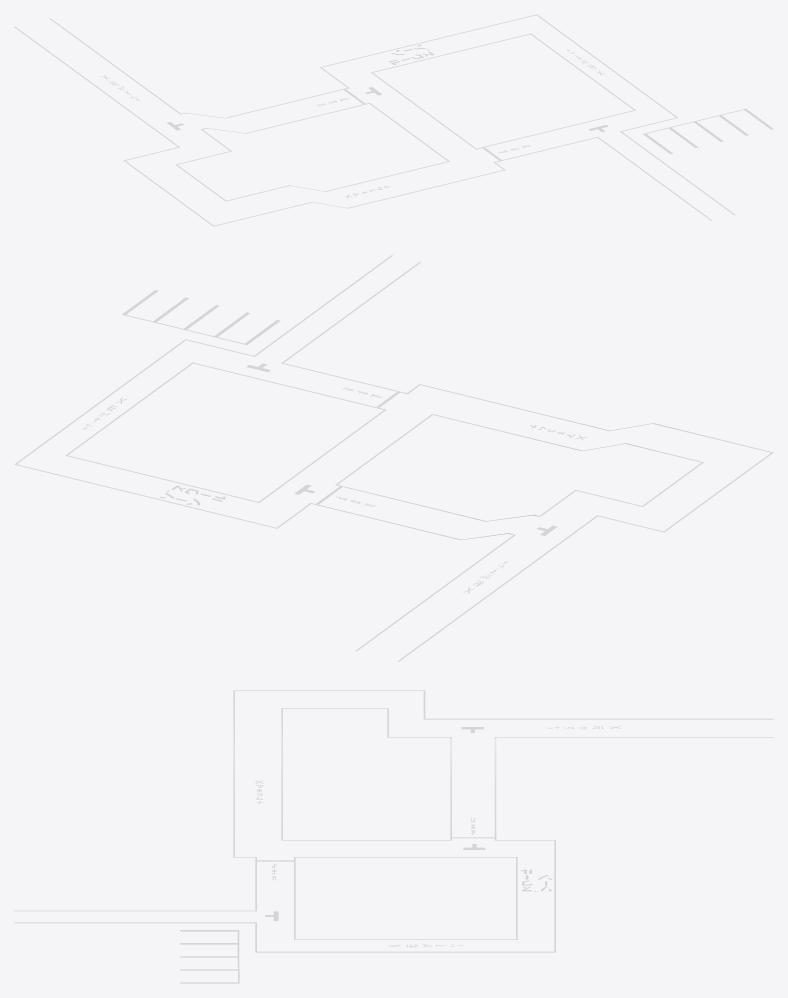
The model's file is kd_stage_1363c5_12_1.glb.
3 renders of one model, top to bottom at view 1: azimuth 30°, elevation 25°; view 2: azimuth 150°, elevation 25°; view 3: azimuth 270°, elevation 25°, orthographic. The views are drawn at different scales.
Visible parts, largest first — view 1: kd_stage_1363c5_12_1; view 2: kd_stage_1363c5_12_1; view 3: kd_stage_1363c5_12_1.
Part boxes in pixels (x1,y1,x2,y2): kd_stage_1363c5_12_1: (14, 14, 773, 226); kd_stage_1363c5_12_1: (14, 255, 773, 661); kd_stage_1363c5_12_1: (14, 690, 773, 983).
Bounding box in the file's own units: 48.98 × 1.3 × 56.65.
Materials: 1 (1 with a texture image).
